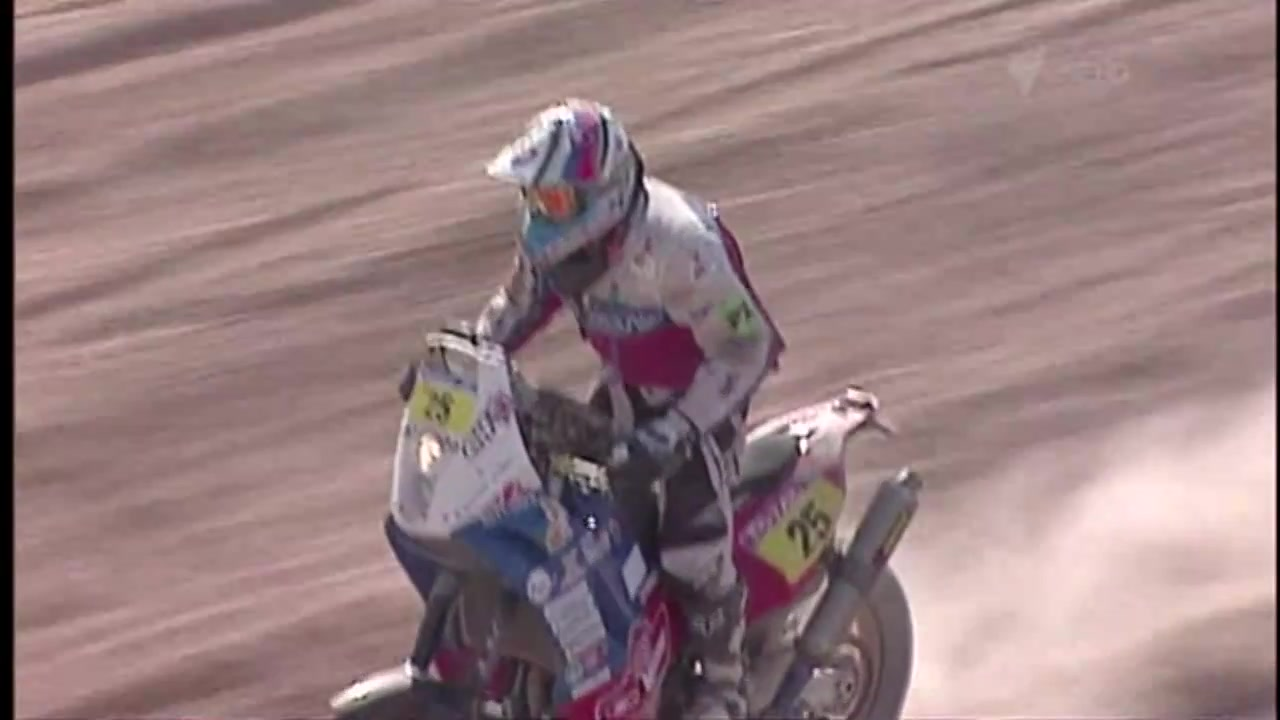motorbike: (314, 323, 929, 720)
